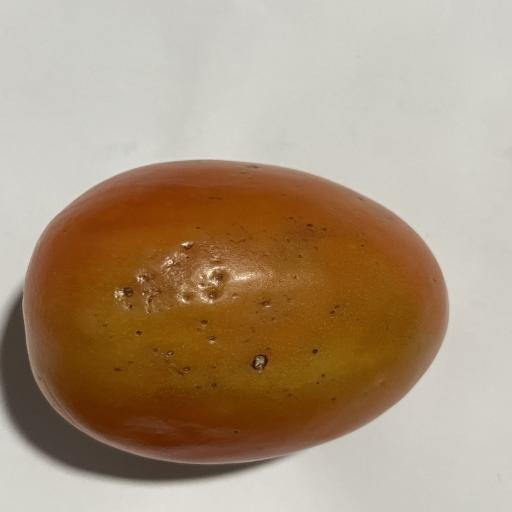unripe: (24, 160, 447, 464)
